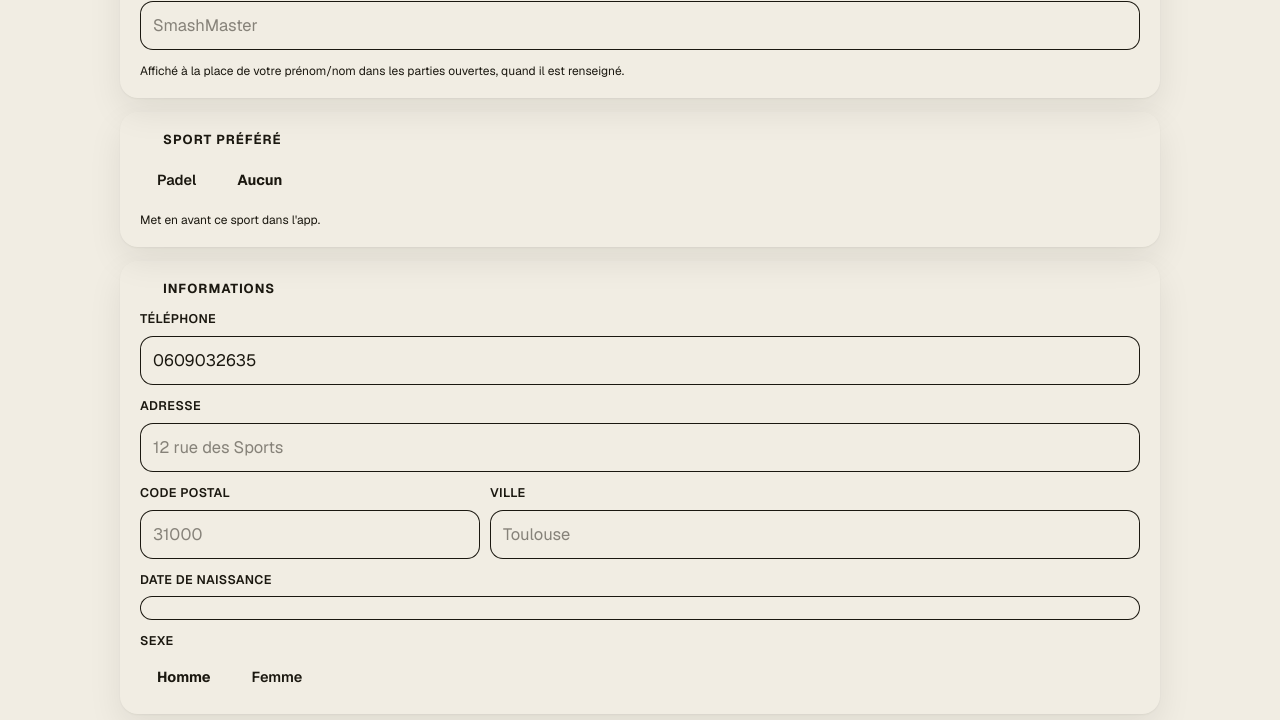
Scenario: Page Mon profil — onglets + SaveBar › un échec d’enregistrement s’affiche dans la barre, sans flash de succès
The width and height of the screenshot is (1280, 720).
(page scrolled)
Step 1. Replace the text in the field named "Téléphone" with "0700000000" → point(640, 360), box 153,348 -> 1127,373
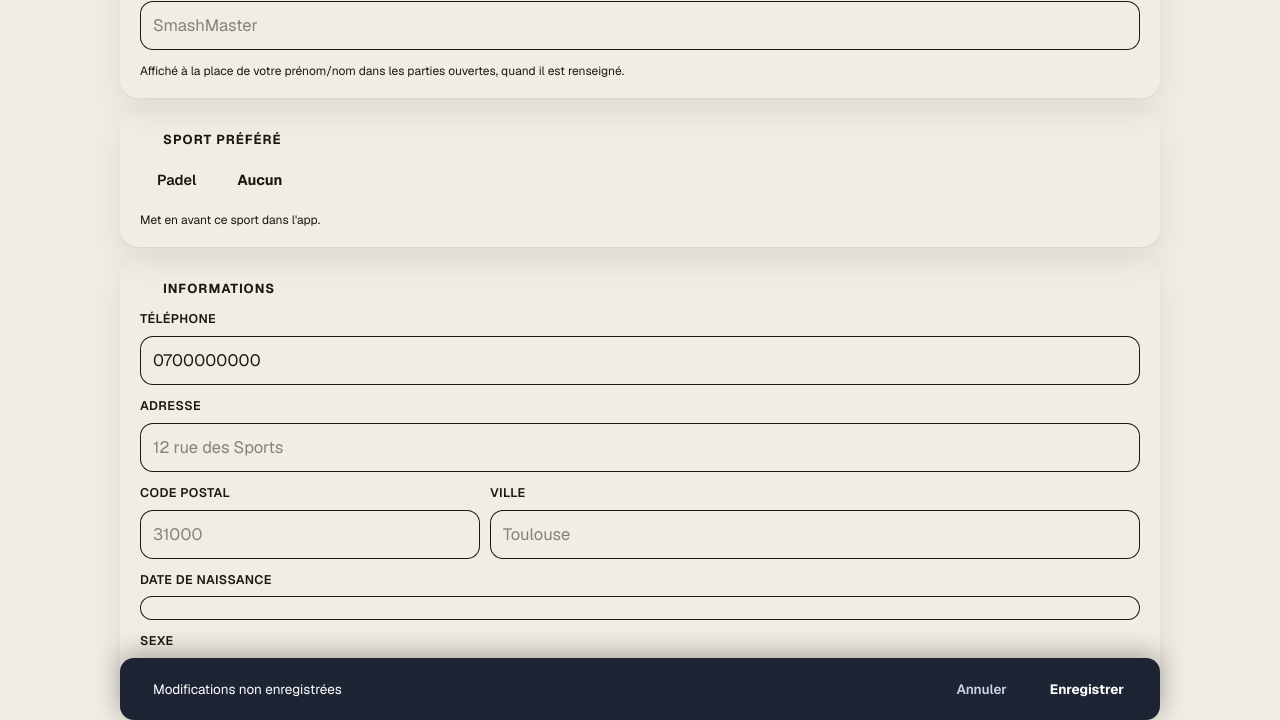
Step 2. Click the button "Enregistrer" → point(1087, 689), box 1030,670 -> 1144,708
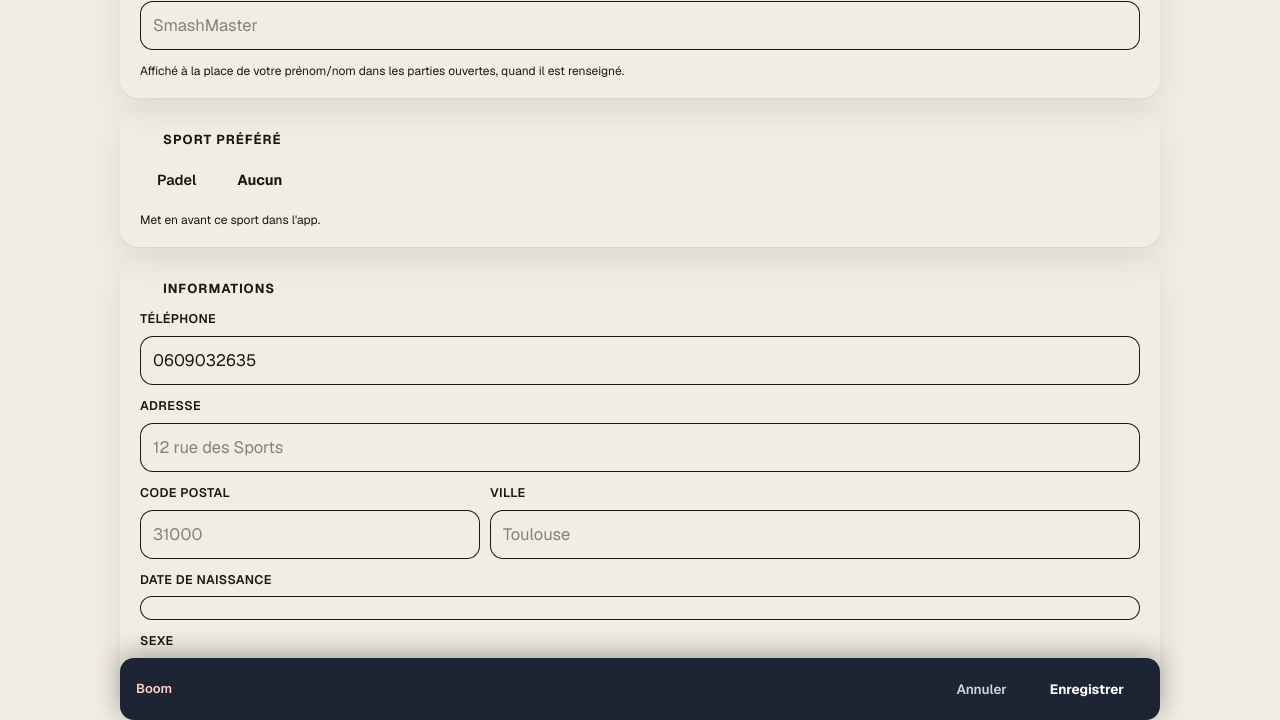
Now the message reads "Boom", box 136,680 -> 172,697
